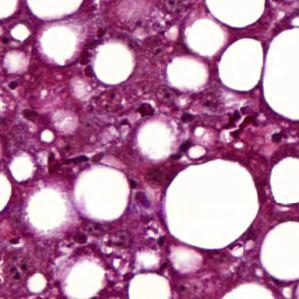steatosis: (164, 159, 260, 249), (264, 28, 299, 123), (260, 221, 299, 284), (206, 0, 265, 28), (270, 155, 299, 206)
